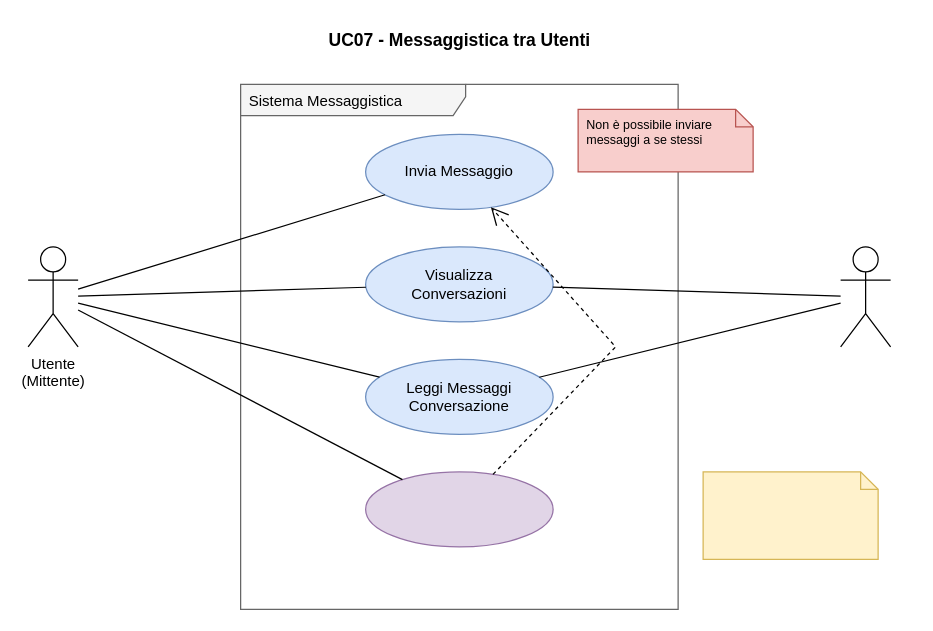
The diagram is 933 pixels wide and 631 high, and some of its shapes have lost their labels. The shapes that lost their labels are listed below. From the top down, each one's centre as x and y in pixels, then its label:
At point 865,296: "Utente (Destinatario)".
At point 458,509: "Contatta Venditore (da Annuncio)".
At point 790,515: "Solo utenti autenticati possono utilizzare la messaggistica".
